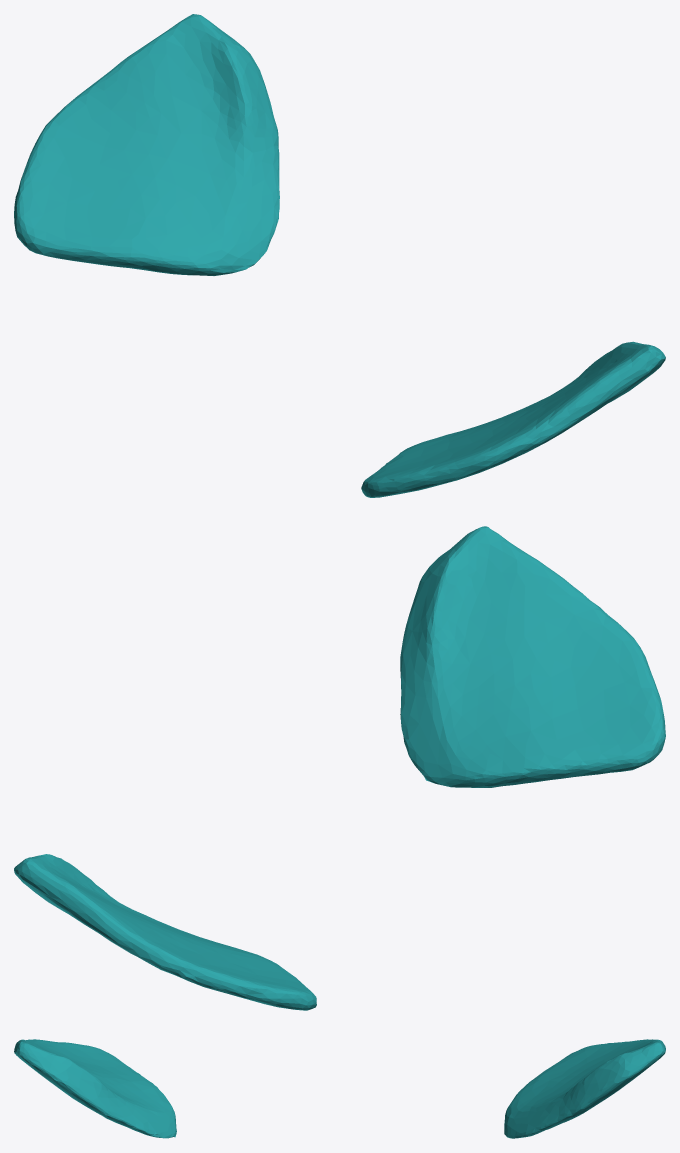
3 views of the same model, one above another, from view 1: azimuth 30°, elevation 25°; view 2: azimuth 150°, elevation 25°; view 3: azimuth 270°, elevation 25° (orthographic). The views are drawn at different scales.
Visible parts, largest first — view 1: 33.obj; view 2: 33.obj; view 3: 33.obj.
Part boxes in pixels (left/top/right/bottom): 33.obj: left=14, top=14, right=665, bottom=497; 33.obj: left=14, top=526, right=665, bottom=1010; 33.obj: left=14, top=1039, right=665, bottom=1138.
Size of the model in its own units: 2083 by 1220 by 6385.
